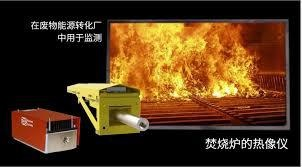fire: (104, 22, 267, 104)
